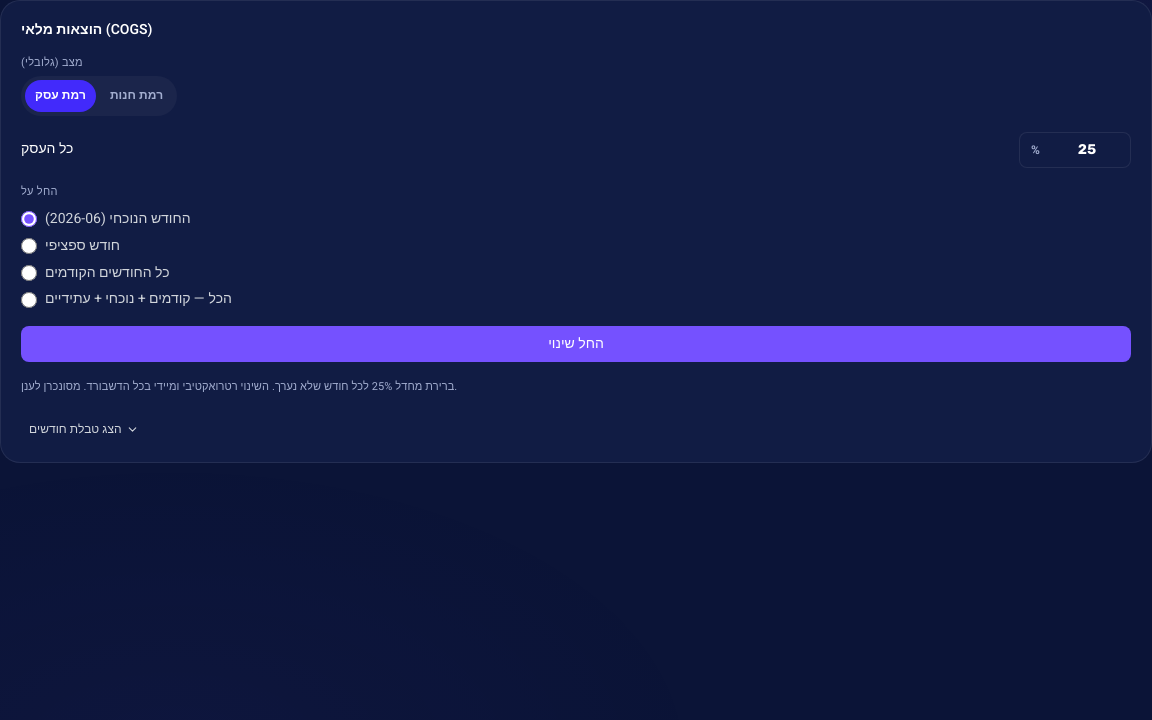
Test case: CogsSettings — Apply validation (FIX #27) › business mode: clearing the field + Apply does NOT write 25%, shows an error
The image size is (1152, 720).
// Clear the business % field.
Clear the field with test id "cogs-business-input". click: (1075, 150)
box: [1019,132,1131,168]
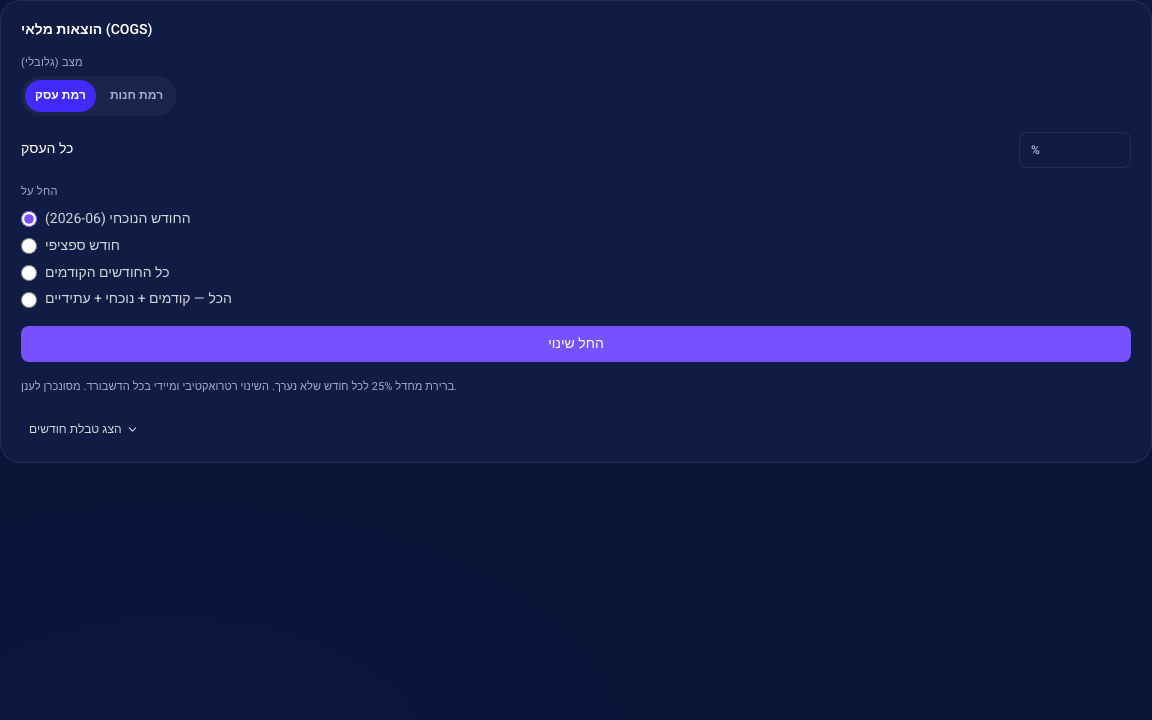
Click the button with test id "cogs-apply". click: (576, 344)
box: [21,326,1131,362]
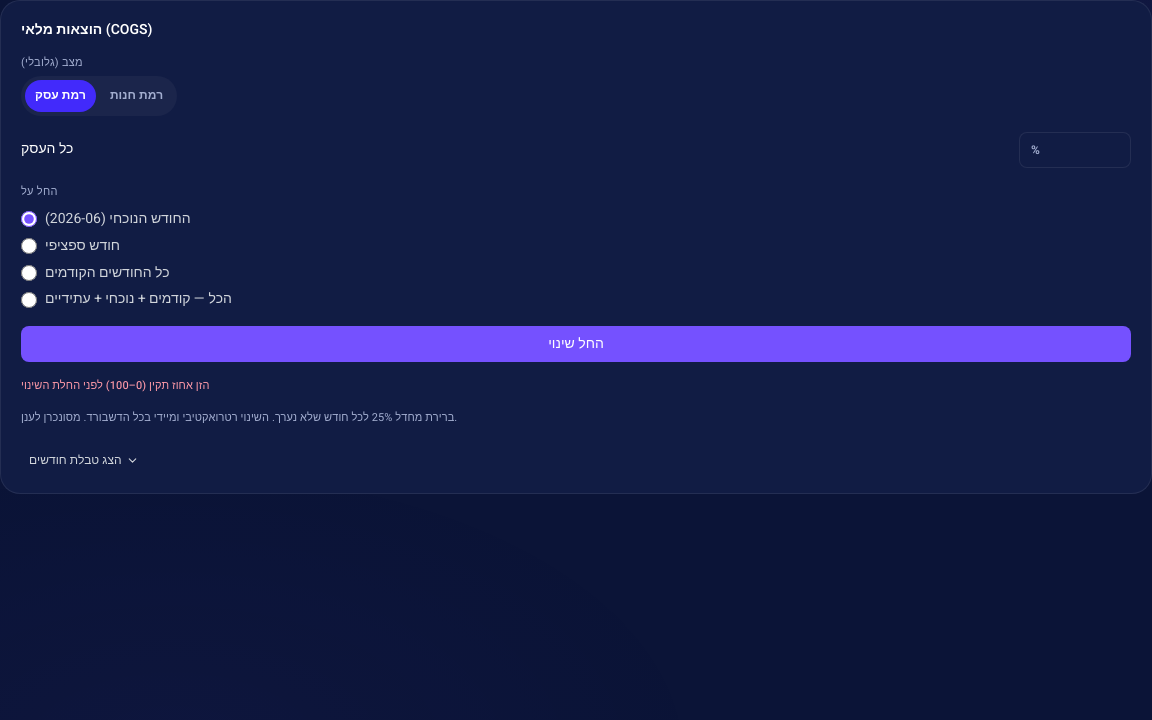
Expected: the message "הזן אחוז תקין (0–100) לפני החלת השינוי" is shown, [21,377,210,394]
